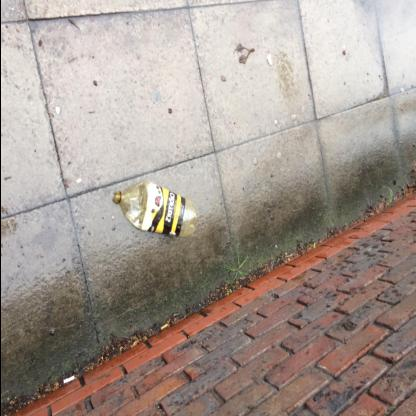plastik: (112, 180, 196, 240)
